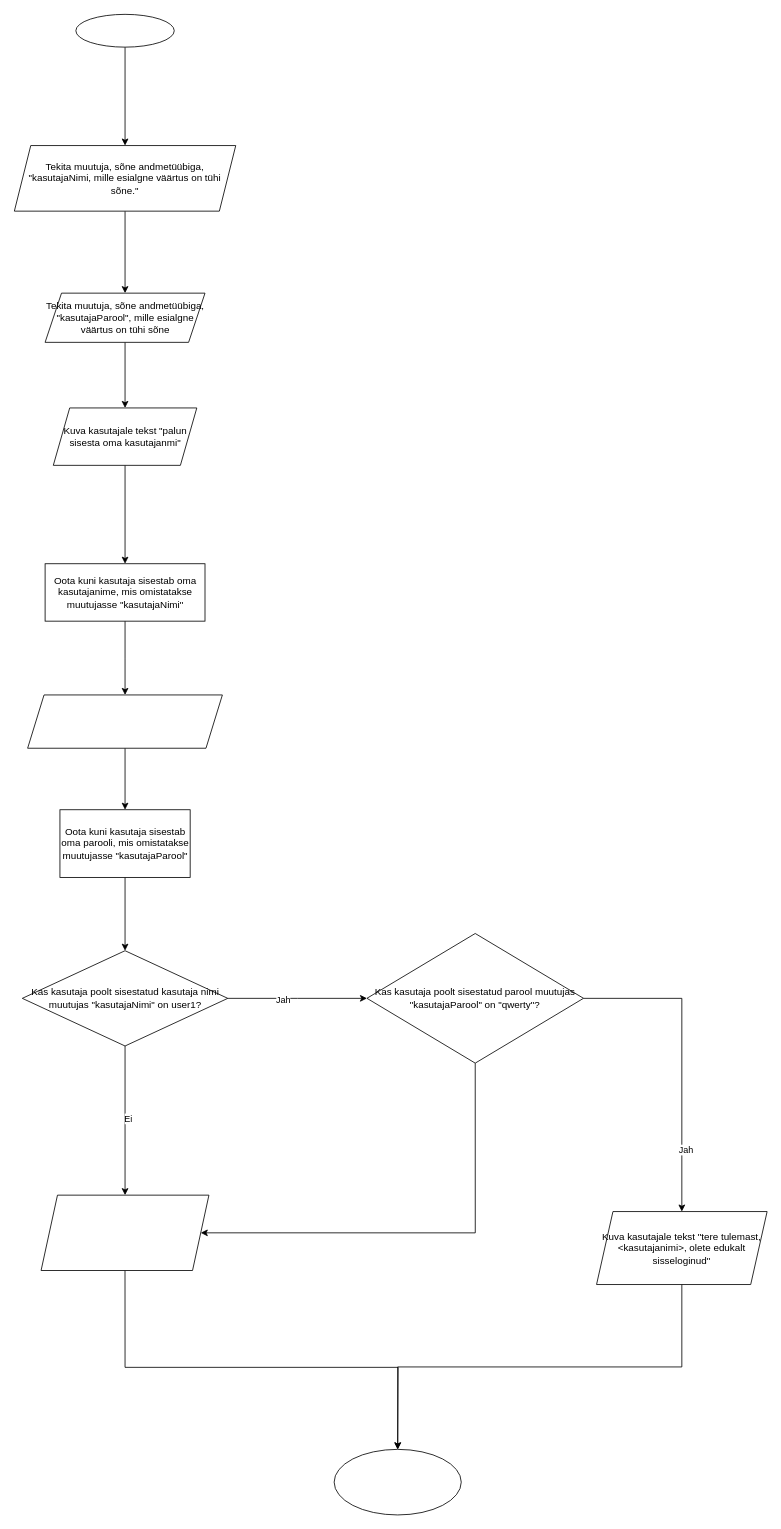
This 781x1529 diagram has some shape labels left out. The shapes that lost their labels are listed below. From the top down, each one's centre as x and y in pixels, then its label:
(124,30): Algus
(124,721): Kuva kasutajale tekst "palun sisesta oma parool"
(124,1232): Kyva kasutajale tekst "kasutajanimi või parool ei ole õige, sissepääs keelatud"
(397,1482): Programmi lõpp
